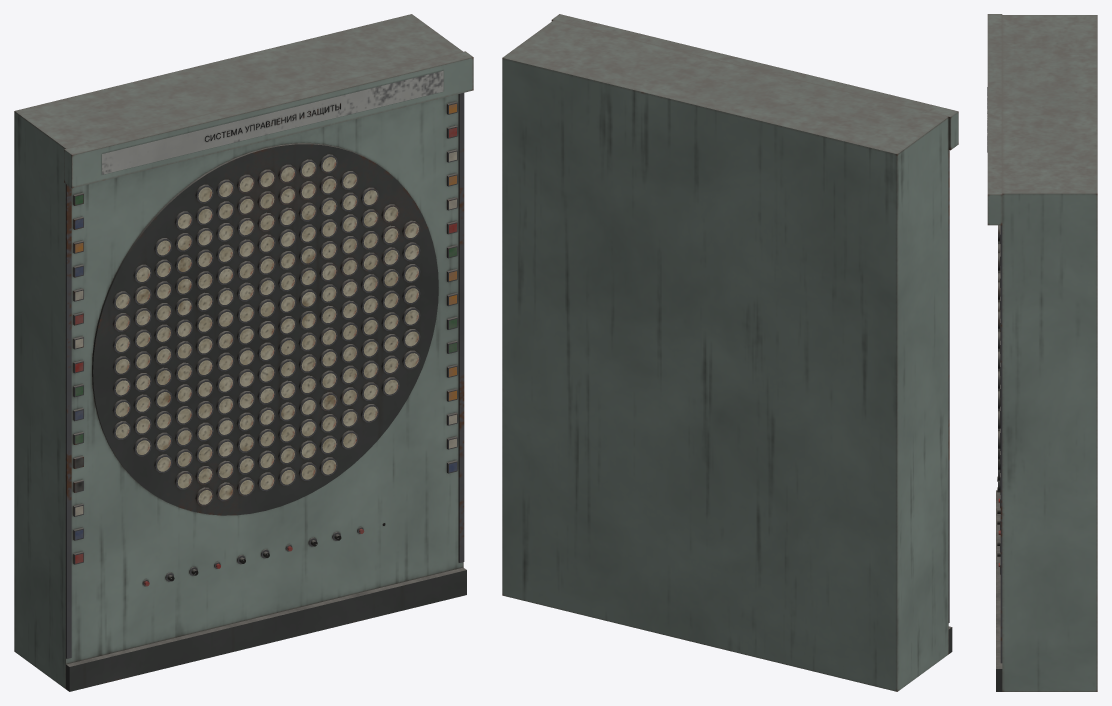
Rendered from SM_WallPanel_RodDisplay.fbx.
3 renders of one model, left to right at view 1: azimuth 30°, elevation 25°; view 2: azimuth 150°, elevation 25°; view 3: azimuth 270°, elevation 25°, orthographic. The views are drawn at different scales.
Parts seen in each view (by area): view 1: SM_WallPanel_RodDisplay; view 2: SM_WallPanel_RodDisplay; view 3: SM_WallPanel_RodDisplay.
Boxes of the visible parts, x1,y1,x2,y2 form: SM_WallPanel_RodDisplay: (14,14,473,691); SM_WallPanel_RodDisplay: (502,14,958,691); SM_WallPanel_RodDisplay: (987,14,1097,691).
Size of the model in its own units: 2.02 by 2.6 by 0.5216.
Materials: 1 (1 with a texture image).
